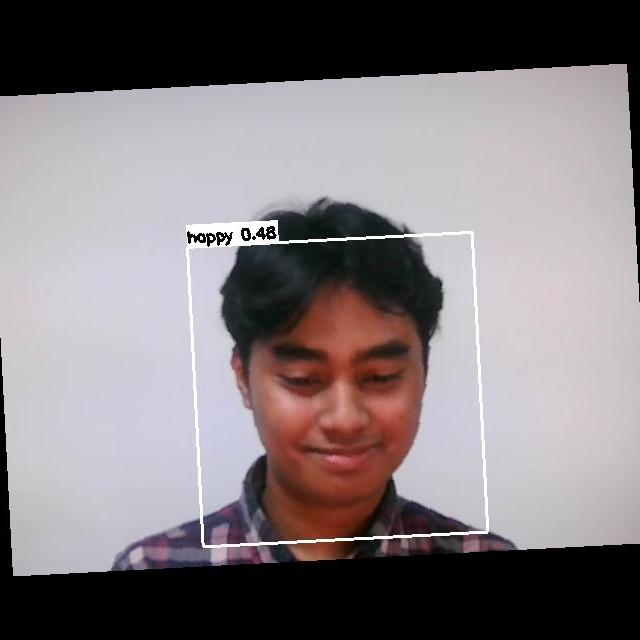Happy: (237, 315, 435, 479)
